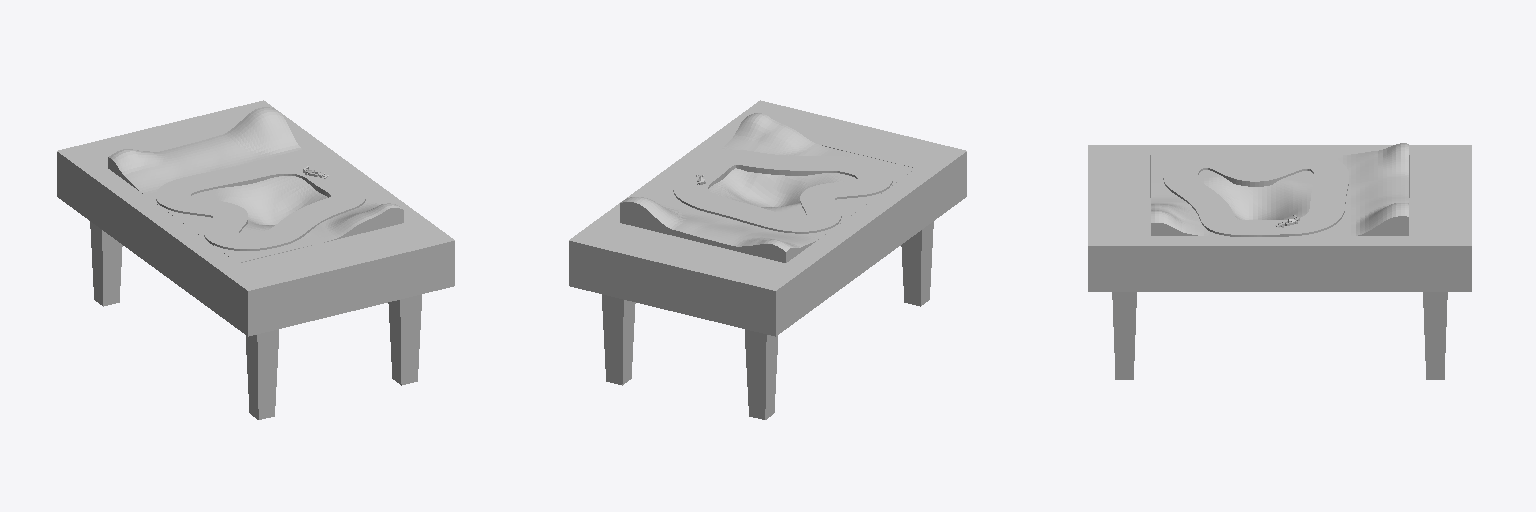
File: NewestTisch20.obj
The picture shows the model from 3 angles: view 1: azimuth 30°, elevation 25°; view 2: azimuth 150°, elevation 25°; view 3: azimuth 270°, elevation 25°; orthographic projection.
Parts seen in each view (by area): view 1: Tischplatte_wood_table_001, Landschaft_aerial_grass_rock, off, Bein1_wood_table_001, Bein4_wood_table_001.003, Bein3_wood_table_001.002; view 2: Tischplatte_wood_table_001, Landschaft_aerial_grass_rock, off, Bein2_wood_table_001.001, Bein3_wood_table_001.002, Bein4_wood_table_001.003; view 3: Tischplatte_wood_table_001, Landschaft_aerial_grass_rock, off, Bein1_wood_table_001, Bein2_wood_table_001.001.
Part boxes in pixels (x1,y1,x2,y2): Tischplatte_wood_table_001: (57, 100, 454, 336); Landschaft_aerial_grass_rock: (108, 107, 403, 262); off: (156, 159, 365, 250); Bein1_wood_table_001: (388, 294, 421, 385); Bein4_wood_table_001.003: (246, 329, 278, 419); Bein3_wood_table_001.002: (90, 221, 122, 306); Tischplatte_wood_table_001: (569, 100, 966, 336); Landschaft_aerial_grass_rock: (620, 113, 915, 262); off: (673, 150, 892, 233); Bein2_wood_table_001.001: (602, 294, 635, 385); Bein3_wood_table_001.002: (745, 329, 777, 419); Bein4_wood_table_001.003: (901, 221, 933, 306); Tischplatte_wood_table_001: (1088, 145, 1471, 291); Landschaft_aerial_grass_rock: (1151, 143, 1408, 235); off: (1163, 153, 1348, 236); Bein1_wood_table_001: (1112, 292, 1136, 379); Bein2_wood_table_001.001: (1423, 292, 1447, 379).
Bounding box in the file's own units: 5 × 3.91 × 8.